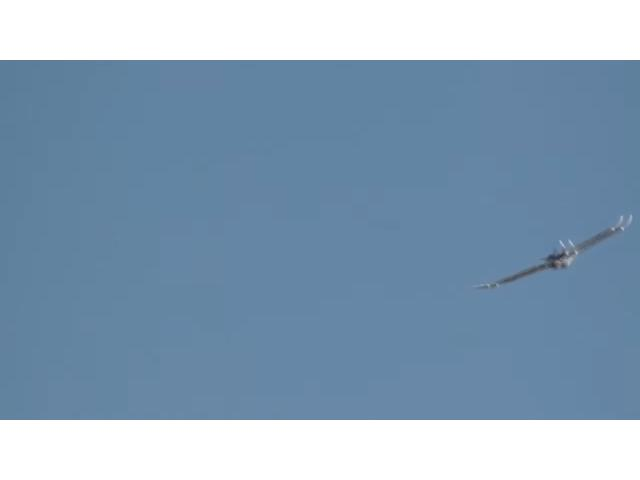Anti-Drone: (477, 218, 631, 290)
